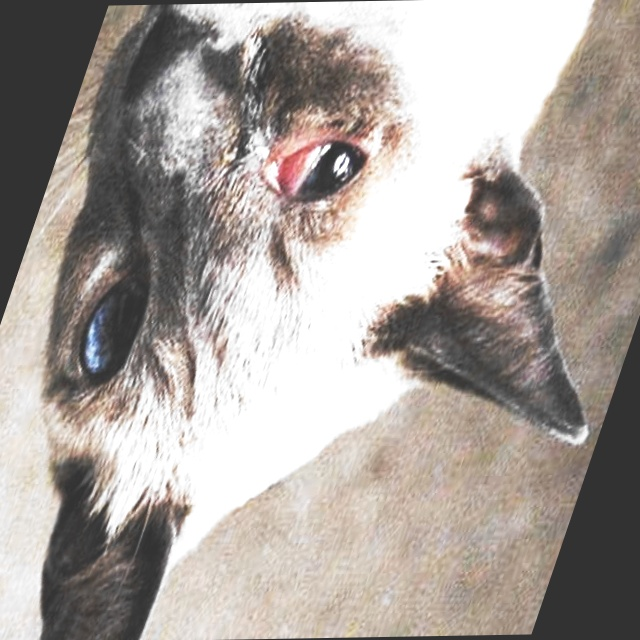eye_infection: (250, 142, 380, 201)
